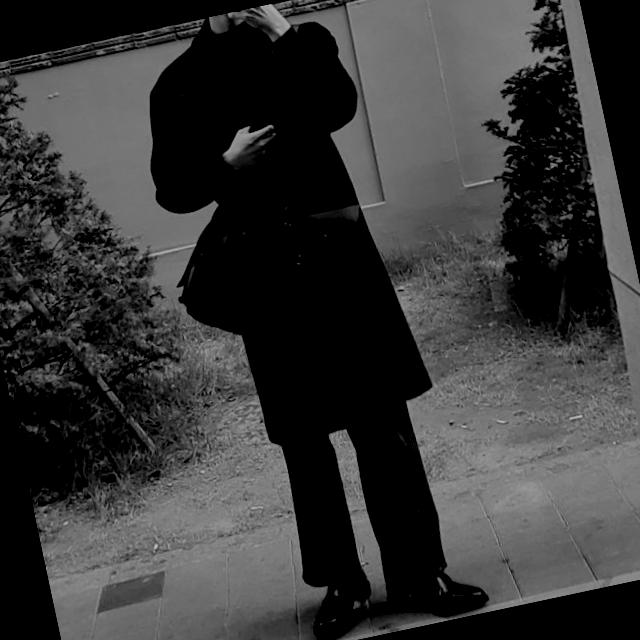coat: (157, 160, 436, 461), (119, 0, 385, 263)
slacks: (268, 388, 450, 598)
